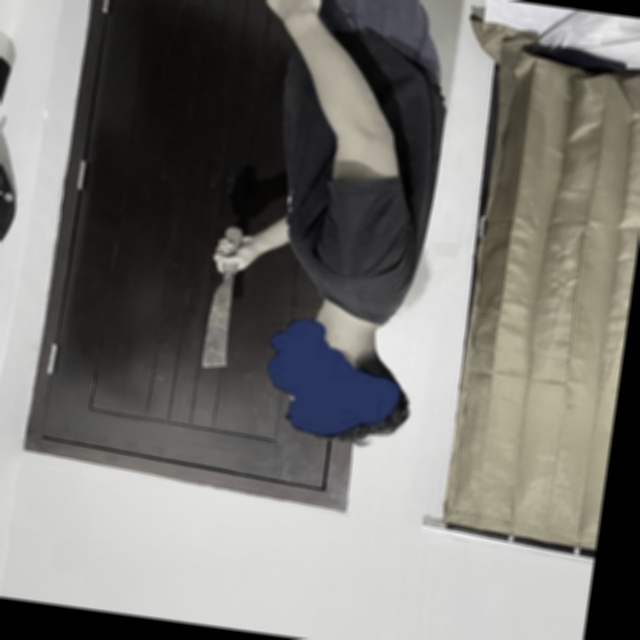Sharp-Object: (200, 224, 247, 372)
